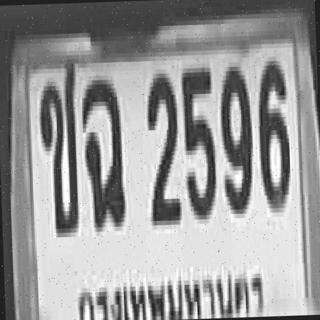A09: (80, 79, 127, 237)
A10: (38, 59, 81, 240)
N02: (146, 73, 180, 225)
N05: (181, 66, 217, 218)
N06: (257, 64, 292, 215)
N09: (218, 67, 254, 215)
